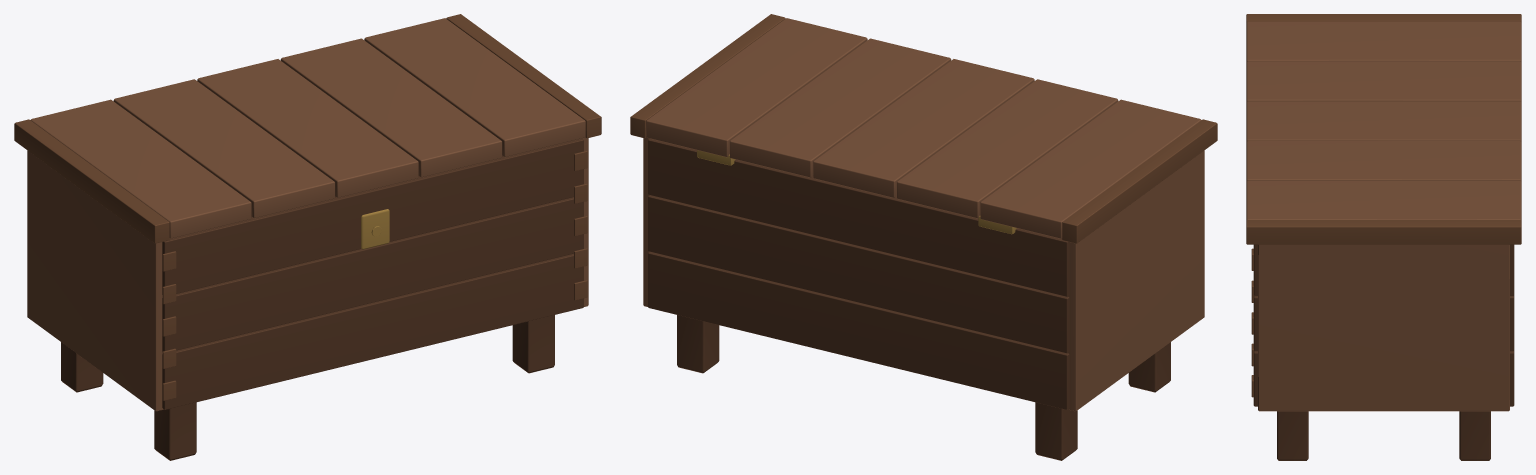
File: rpg-mansion-blanket-coffer-01.glb
3 renders of one model, left to right at view 1: azimuth 30°, elevation 25°; view 2: azimuth 150°, elevation 25°; view 3: azimuth 270°, elevation 25°, orthographic. The views are drawn at different scales.
Parts seen in each view (by area): view 1: rpg-mansion-blanket-coffer-01; view 2: rpg-mansion-blanket-coffer-01; view 3: rpg-mansion-blanket-coffer-01.
Boxes of the visible parts, left/top/right/bottom form: rpg-mansion-blanket-coffer-01: left=14, top=14, right=601, bottom=460; rpg-mansion-blanket-coffer-01: left=630, top=14, right=1217, bottom=460; rpg-mansion-blanket-coffer-01: left=1246, top=14, right=1521, bottom=460.
Bounding box in the file's own units: 1.1 × 0.6 × 0.6.
